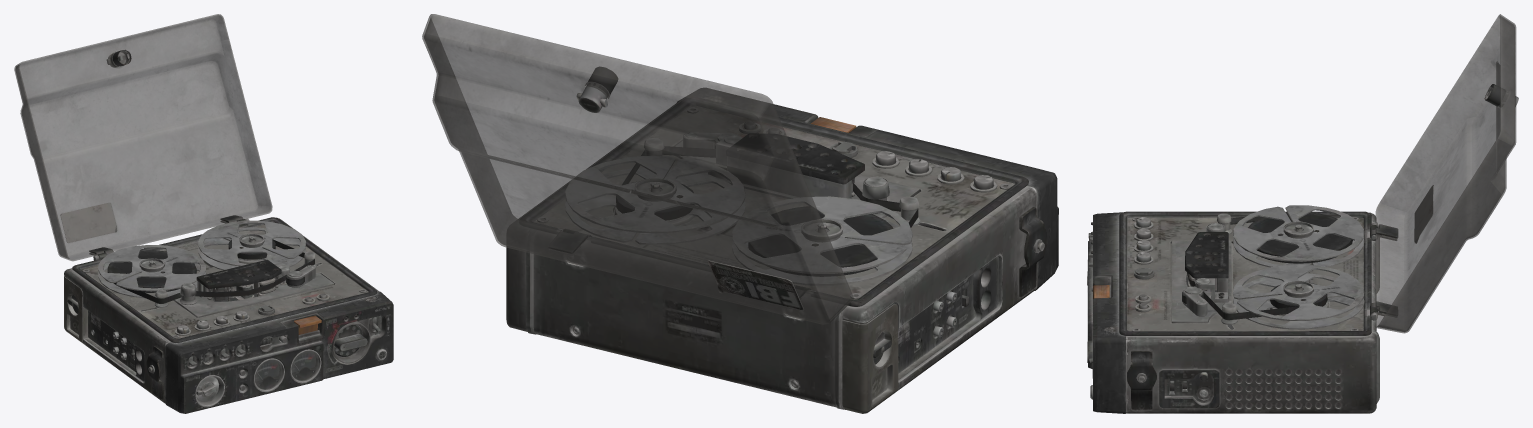
File: tape_recorder.glb
The picture shows the model from 3 angles, left to right: view 1: azimuth 30°, elevation 25°; view 2: azimuth 150°, elevation 25°; view 3: azimuth 270°, elevation 25°; orthographic projection. The views are drawn at different scales.
Visible parts, largest first — view 1: Sony_b_M_Sony_glass_0, Sony_a_M_Sony_b_0, Sony_a_M_Sony_a_0, Sony_b_M_Sony_Sticker_0; view 2: Sony_b_M_Sony_glass_0, Sony_a_M_Sony_a_0, Sony_a_M_Sony_b_0, Sony_b_M_Sony_Sticker_0; view 3: Sony_a_M_Sony_b_0, Sony_a_M_Sony_a_0, Sony_b_M_Sony_glass_0, Sony_b_M_Sony_Sticker_0.
Boxes of the visible parts, x1=… form: Sony_b_M_Sony_glass_0: x1=14, y1=14, x2=272, y2=261; Sony_a_M_Sony_b_0: x1=67, y1=49, x2=381, y2=401; Sony_a_M_Sony_a_0: x1=64, y1=217, x2=393, y2=413; Sony_b_M_Sony_Sticker_0: x1=60, y1=202, x2=116, y2=242; Sony_b_M_Sony_glass_0: x1=422, y1=14, x2=853, y2=324; Sony_a_M_Sony_a_0: x1=506, y1=88, x2=1058, y2=413; Sony_a_M_Sony_b_0: x1=534, y1=67, x2=1047, y2=364; Sony_b_M_Sony_Sticker_0: x1=707, y1=260, x2=803, y2=310; Sony_a_M_Sony_b_0: x1=1087, y1=84, x2=1518, y2=410; Sony_a_M_Sony_a_0: x1=1087, y1=211, x2=1379, y2=413; Sony_b_M_Sony_glass_0: x1=1375, y1=14, x2=1516, y2=333; Sony_b_M_Sony_Sticker_0: x1=1414, y1=185, x2=1433, y2=243.
Bounding box in the file's own units: 0.3258 × 0.3113 × 0.426.
4 materials, 4 textured.
